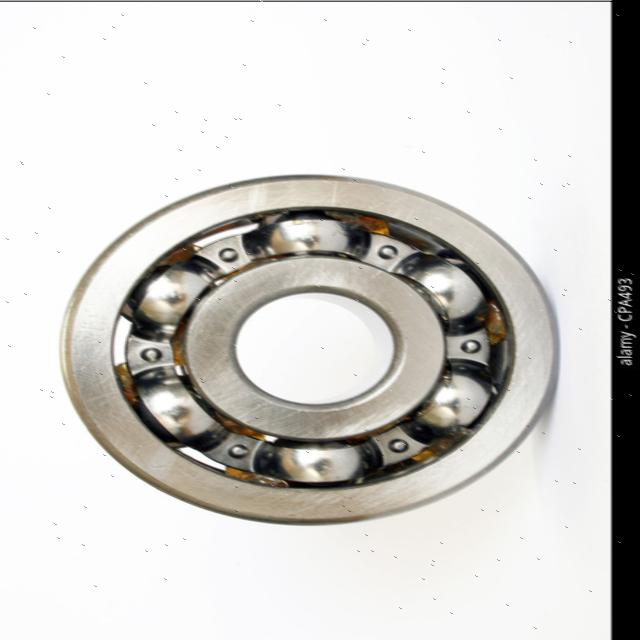Bearing: (59, 171, 563, 525)
